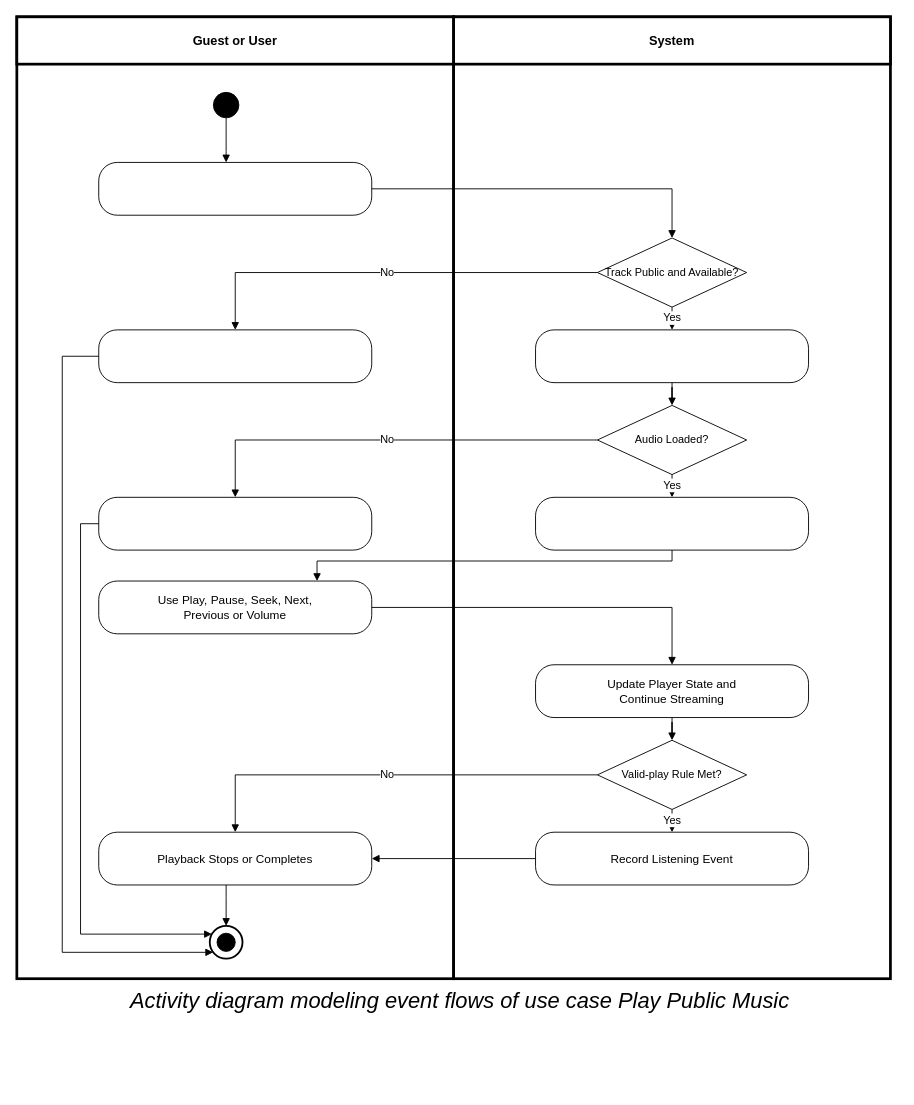
The diagram is 914 pixels wide and 1105 high, and some of its shapes have lost their labels. The shapes that lost their labels are listed below. From the top down, each one's centre as x and y in pixels, then its label:
At [235,188]: "Select Play on a Track".
At [235,356]: "Show Track Unavailable".
At [672,356]: "Load Audio Data".
At [235,523]: "Show Playback Error or Retry".
At [672,523]: "Start Playback".
